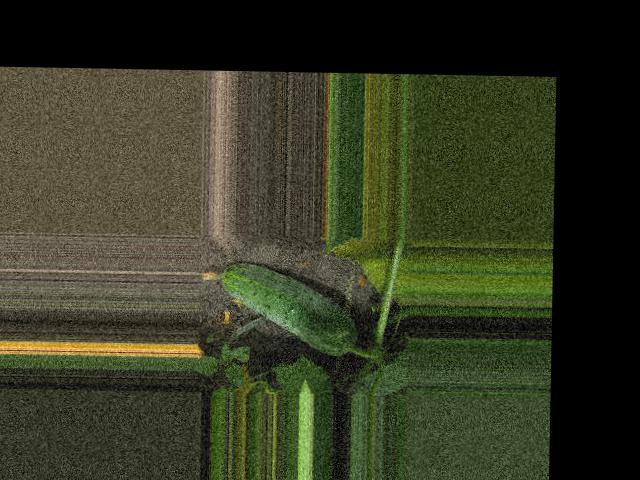cucumber: (198, 260, 357, 356)
